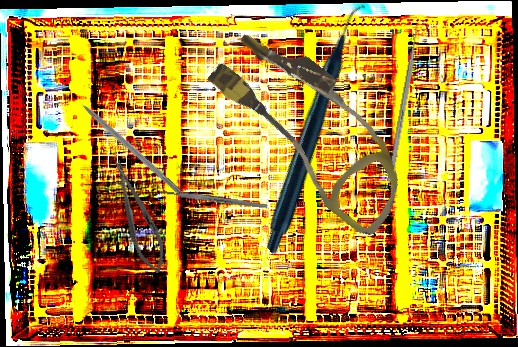Cannula: (190, 16, 435, 241)
Handpiece: (182, 1, 453, 257)
Hook Surgical: (66, 88, 184, 196)
Needle Holder: (104, 155, 173, 278)
Pusher: (387, 16, 422, 182)
Scalpel Handle: (157, 188, 269, 210)
